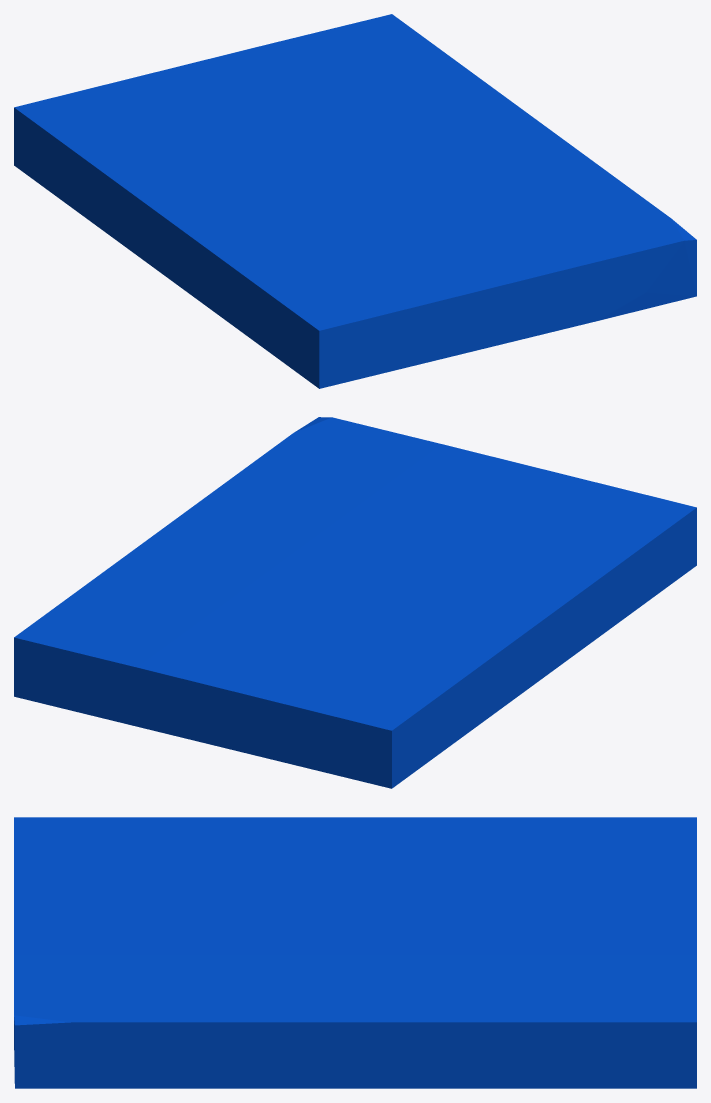
Rendered from simple_example_hole_part_52.obj.
The picture shows the model from 3 angles, top to bottom: view 1: azimuth 30°, elevation 25°; view 2: azimuth 150°, elevation 25°; view 3: azimuth 270°, elevation 25°; orthographic projection. The views are drawn at different scales.
Bounding box in the file's own units: 2.04 × 0.3058 × 2.86.
